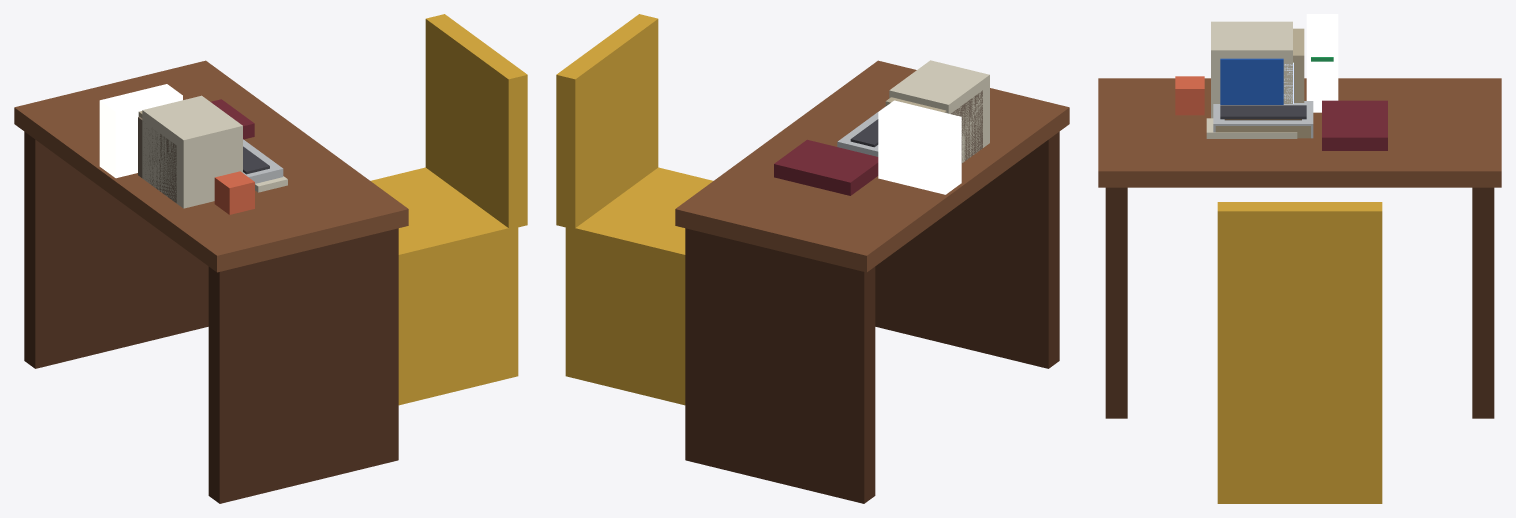
File: desk.glb
The picture shows the model from 3 angles, left to right: view 1: azimuth 30°, elevation 25°; view 2: azimuth 150°, elevation 25°; view 3: azimuth 270°, elevation 25°; orthographic projection.
Visible parts, largest first — view 1: Box2, Box1, Box3, Box6, Box7, Box9, Box11, Box5, Box19, Box17; view 2: Box3, Box1, Box2, Box6, Box7, Box11, Box9, Box4, Box19, Box17; view 3: Box1, Box7, Box6, Box2, Box3, Box9, Box4, Box10, Box11, Box18, Box5, Box17 (+3 smaller).
Part boxes in pixels (bbox=[...]): Box2: bbox=[208, 228, 398, 503]; Box1: bbox=[14, 60, 408, 272]; Box3: bbox=[24, 131, 208, 368]; Box6: bbox=[371, 167, 518, 405]; Box7: bbox=[425, 14, 527, 229]; Box9: bbox=[142, 95, 242, 208]; Box11: bbox=[99, 84, 182, 178]; Box5: bbox=[214, 171, 254, 214]; Box19: bbox=[138, 116, 176, 202]; Box17: bbox=[243, 139, 283, 183]; Box3: bbox=[685, 228, 875, 503]; Box1: bbox=[675, 60, 1069, 272]; Box2: bbox=[875, 131, 1059, 368]; Box6: bbox=[565, 167, 712, 405]; Box7: bbox=[556, 14, 658, 229]; Box11: bbox=[878, 100, 961, 194]; Box9: bbox=[889, 60, 989, 162]; Box4: bbox=[774, 139, 878, 195]; Box19: bbox=[951, 90, 982, 163]; Box17: bbox=[837, 106, 885, 156]; Box1: bbox=[1098, 78, 1501, 187]; Box7: bbox=[1217, 202, 1382, 360]; Box6: bbox=[1217, 361, 1382, 503]; Box2: bbox=[1105, 187, 1127, 418]; Box3: bbox=[1472, 187, 1494, 418]; Box9: bbox=[1211, 21, 1292, 118]; Box4: bbox=[1322, 100, 1387, 150]; Box10: bbox=[1220, 58, 1283, 104]; Box11: bbox=[1306, 14, 1338, 112]; Box18: bbox=[1220, 105, 1306, 119]; Box5: bbox=[1175, 76, 1204, 115]; Box17: bbox=[1213, 101, 1313, 138].
Size of the model in its own units: 1.16 by 0.9596 by 1.1.
